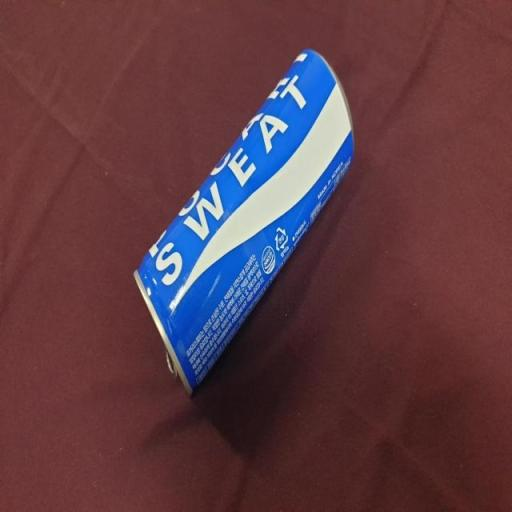metal: (120, 36, 358, 412)
